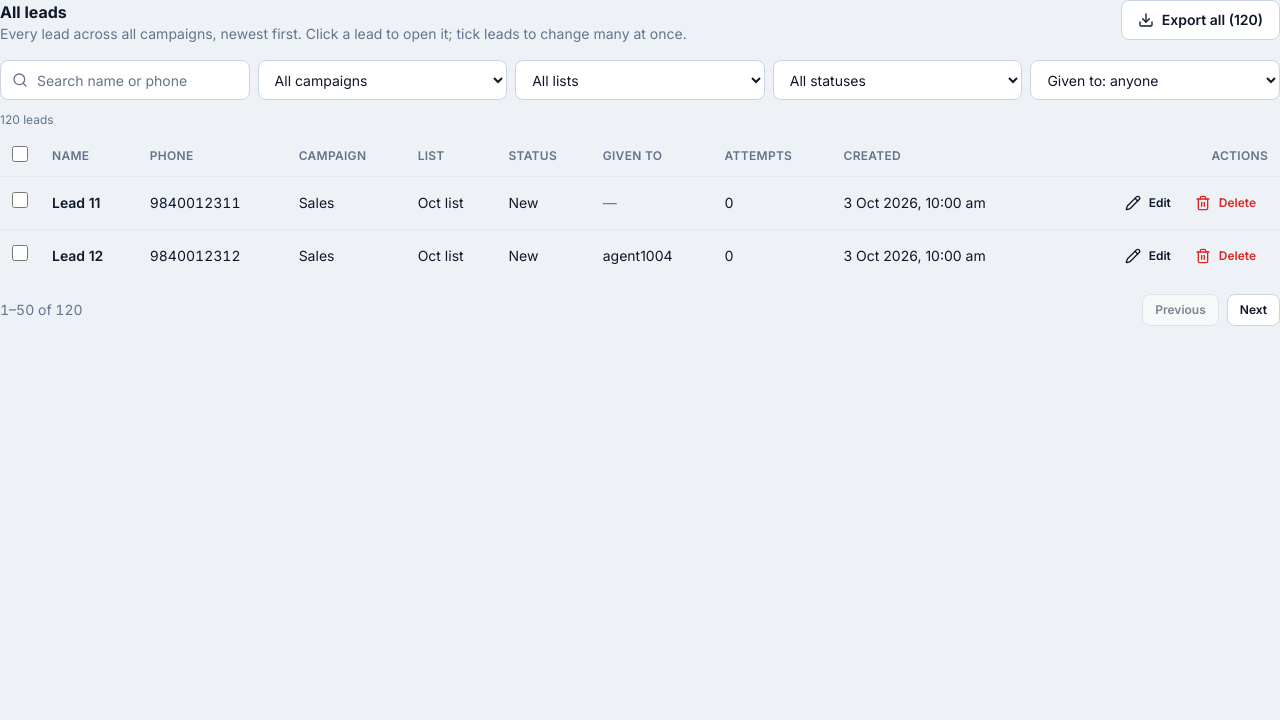
it: Leads - bulk, export, assignment › ticked leads can be given to an agent; the table shows who has them
Expected: the text "agent1004" is shown, [591,229,712,282]
Click the checkbox named "Tick 9840012311".
click(20, 200)  # box [12,192,28,208]
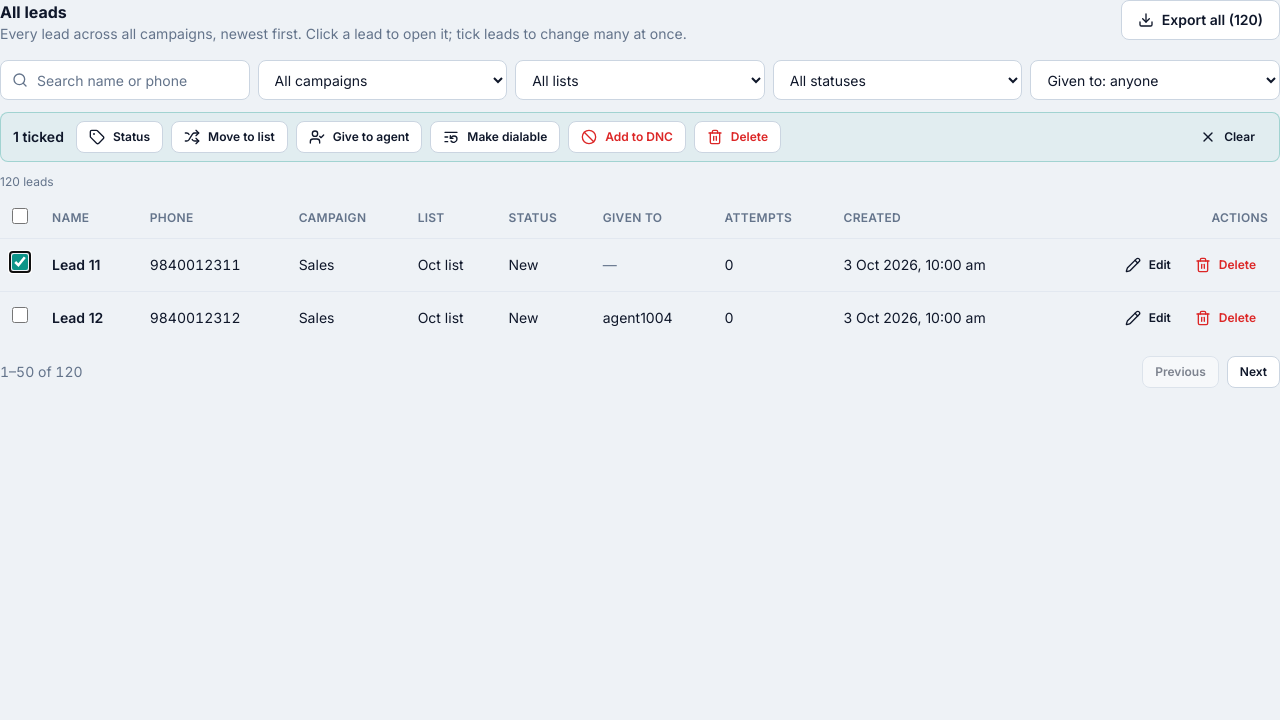
Expected: the text "1 ticked" is shown, [13,127,64,147]
Click the button "Give to agent".
click(359, 137)  # box [296,121,422,153]
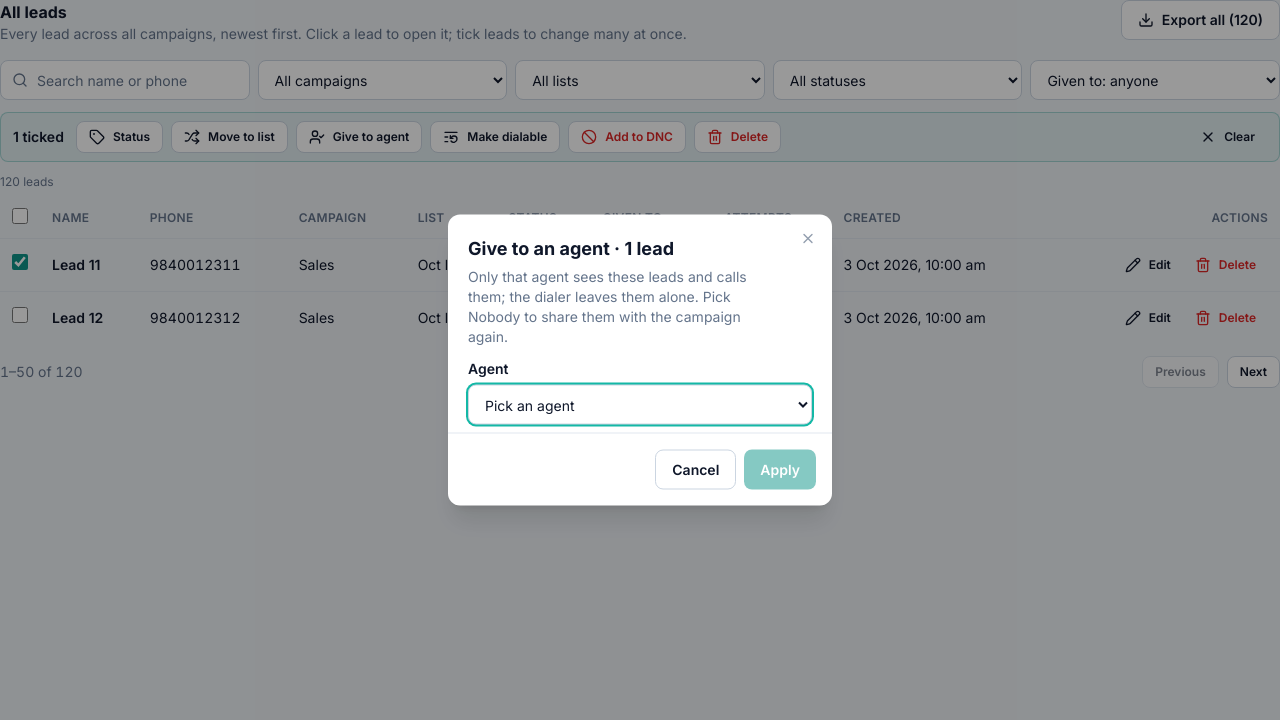
Select "agent1004" in the dropdown labelled "Agent" at [640, 404], box [468,384,812,424]
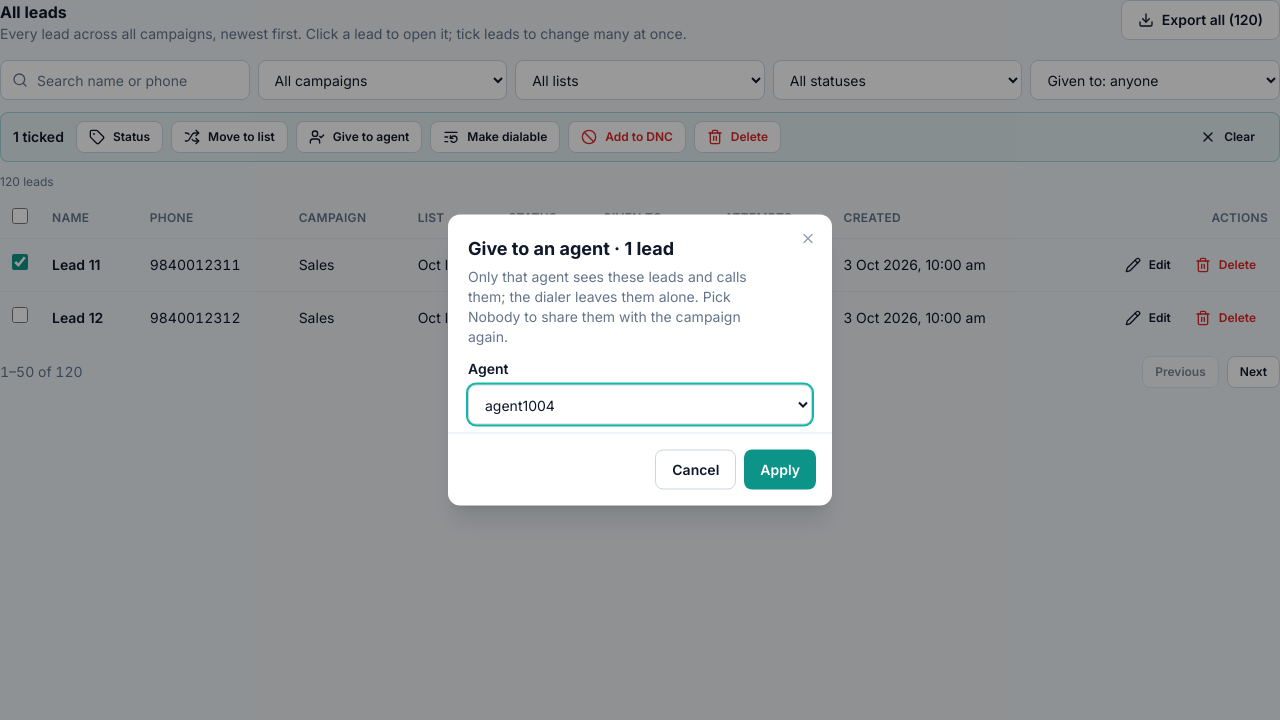
Click the button "Apply".
click(780, 470)  # box [744,450,816,490]
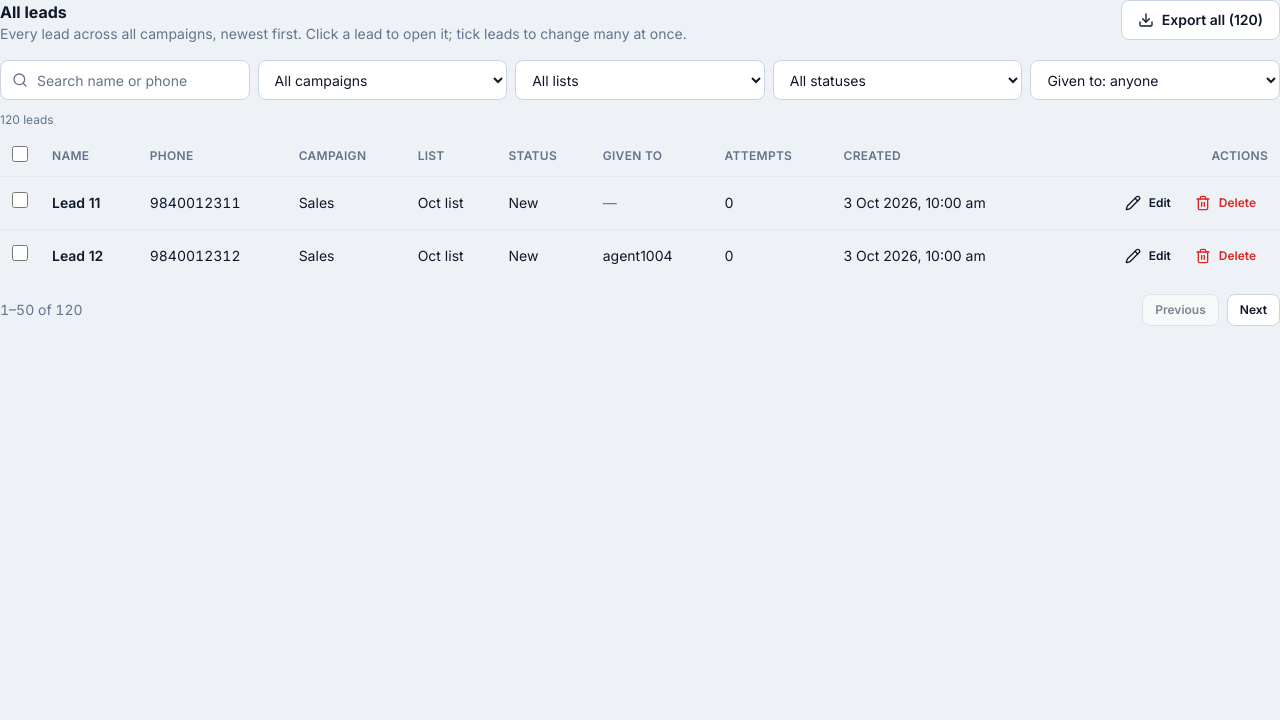
Expected: the dialog is gone
